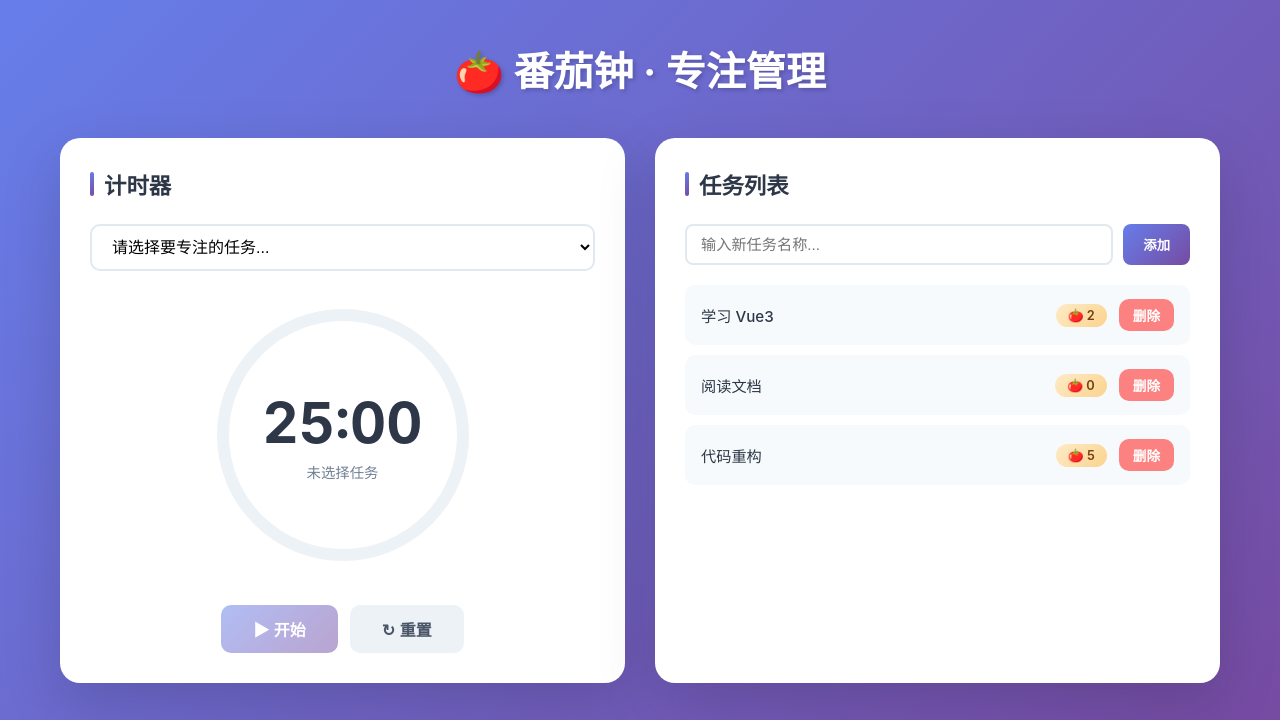
Test: App.vue › 任务选择与计时器锁定 › 计时开始后重置按钮应可用
Select "学习 Vue3（已完成 2 个番茄）" in the dropdown with class "task-select" at (342, 248), box [90, 224, 595, 271]
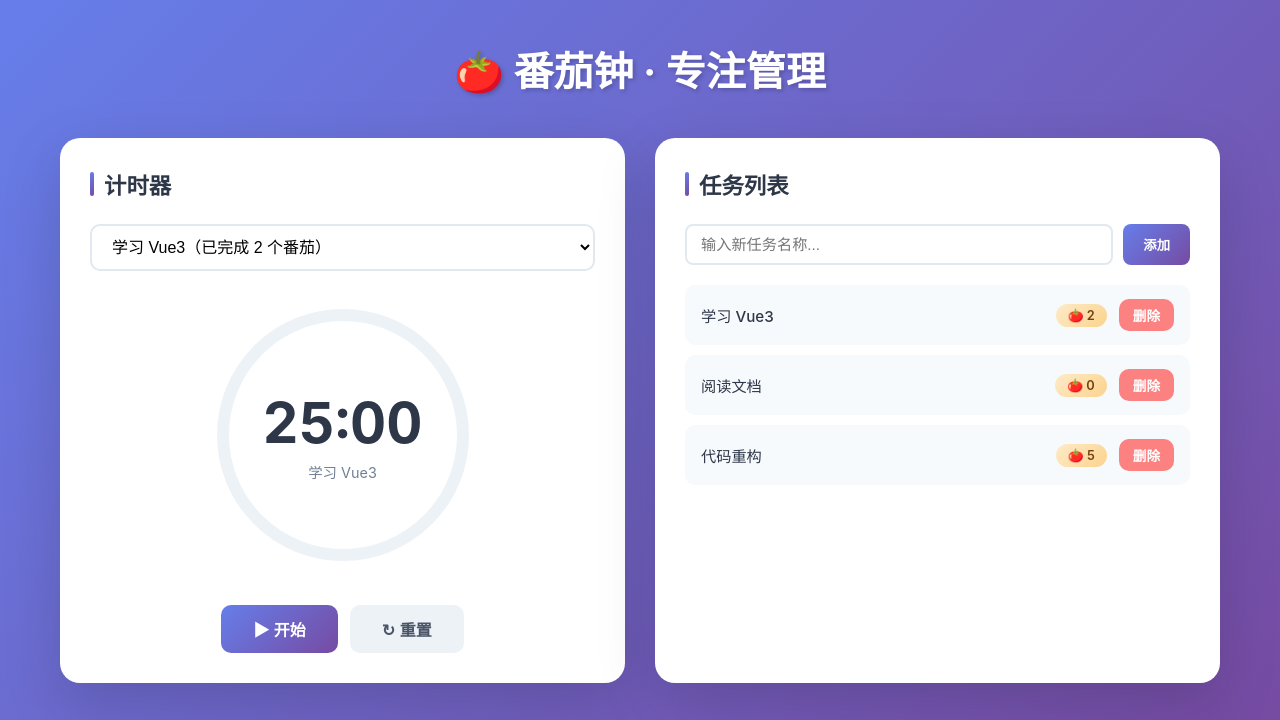
Click the button "▶ 开始" at (280, 629), box [221, 605, 338, 653]
Wait 1000 ms
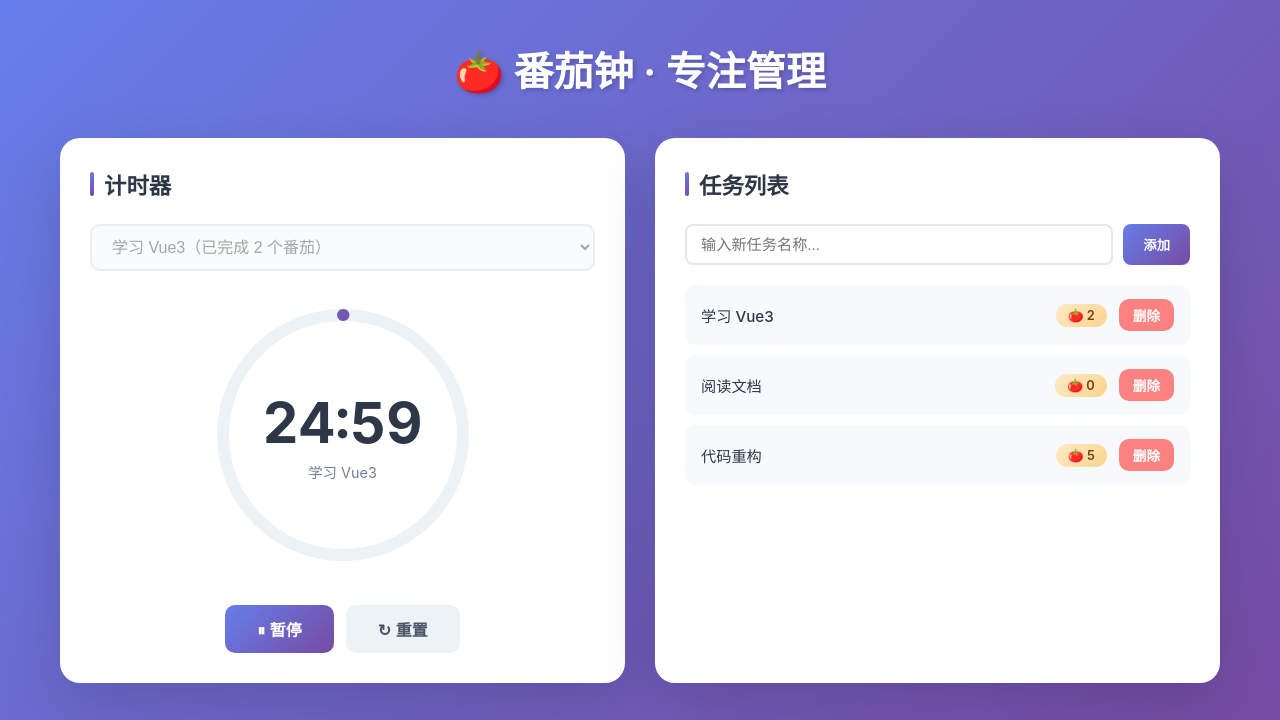
Result: the button "↻ 重置" is enabled at [346, 605, 460, 653]
